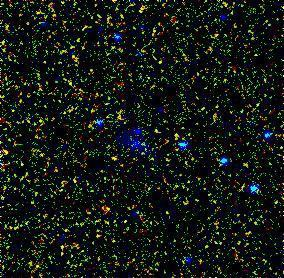star: (97, 140, 127, 170)
